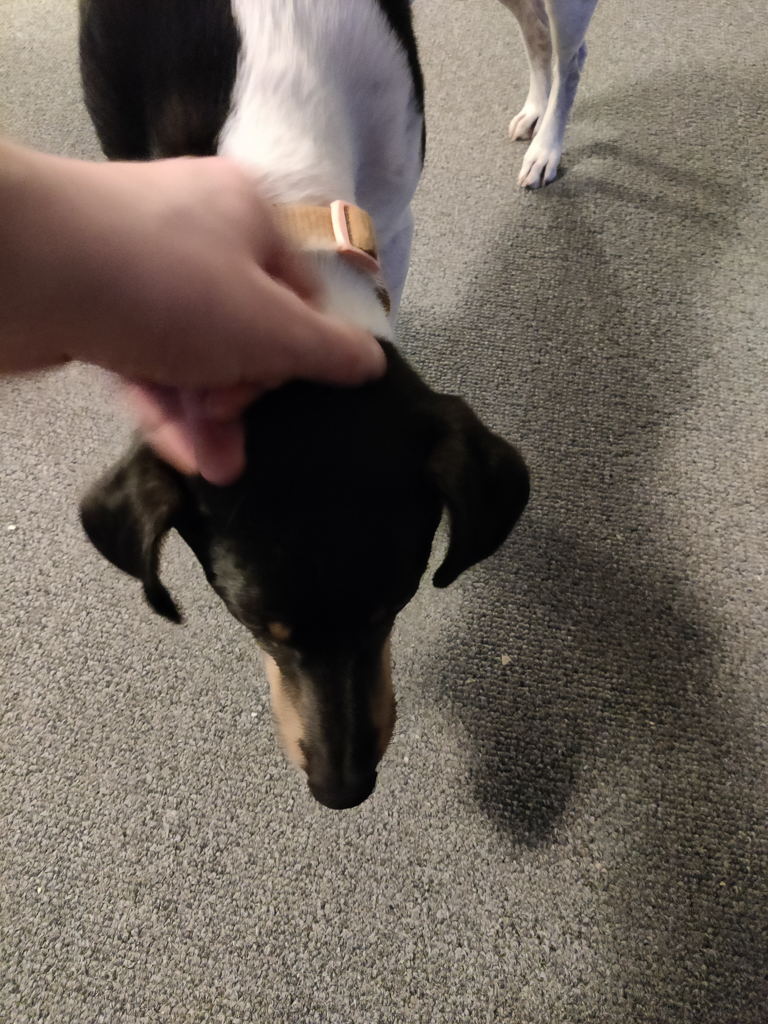Dog: (53, 0, 604, 819)
Humanoid: (0, 109, 431, 508)
